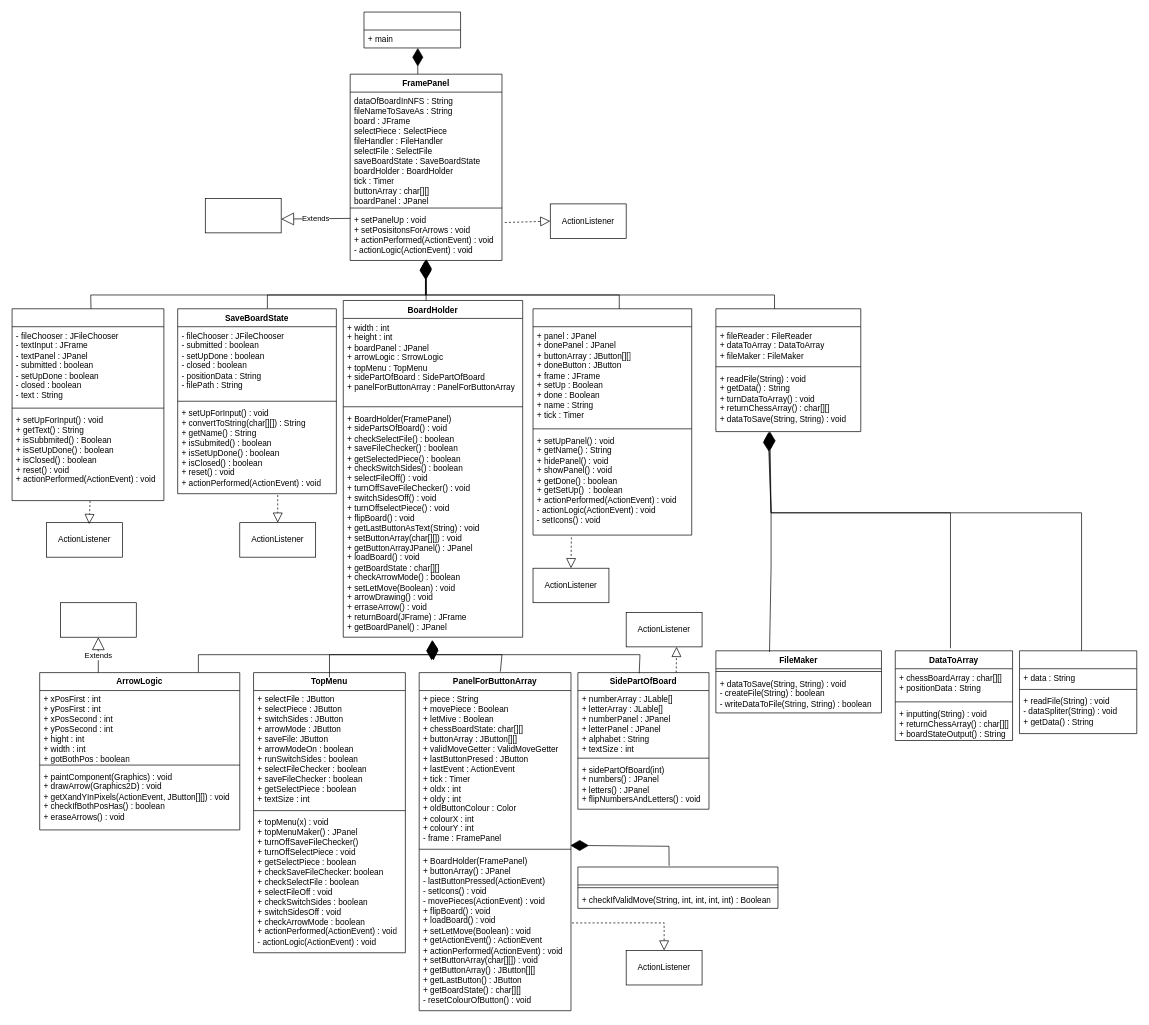
Some shapes in this 1149 by 1025 pixel diagram are drawn without their labels. Each missing label, with the box of its shape:
FileReader: (1019, 650, 1137, 734)
FilerHandler: (715, 308, 861, 432)
JFrame: (205, 198, 281, 233)
JPanel: (60, 602, 136, 637)
Runner: (363, 11, 461, 48)
SelectFile: (11, 308, 164, 501)
SelectPiece: (532, 308, 692, 535)
ValidMoveGetter: (577, 866, 778, 908)
